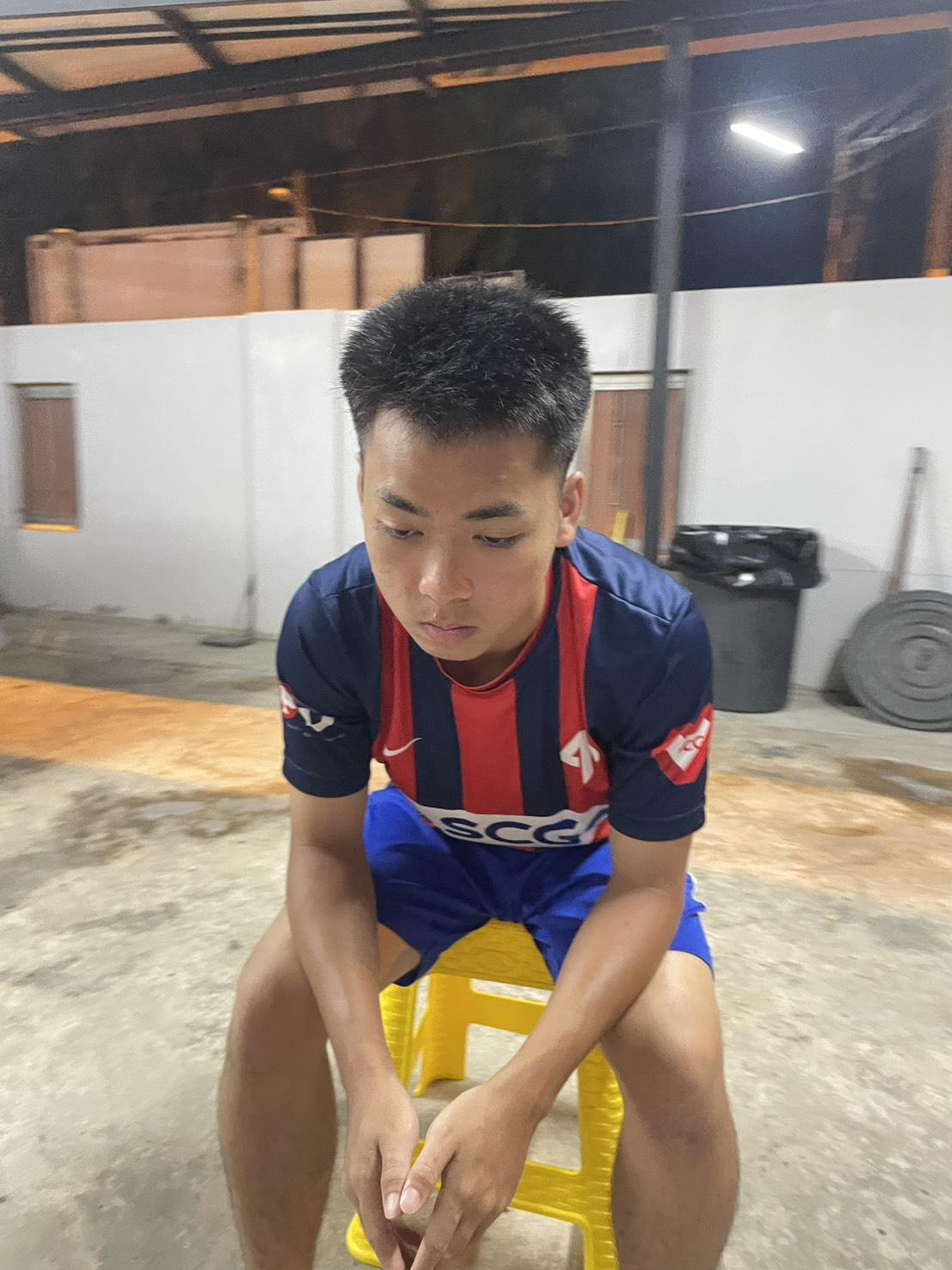BadPosture: (278, 281, 712, 858), (277, 282, 712, 857)
